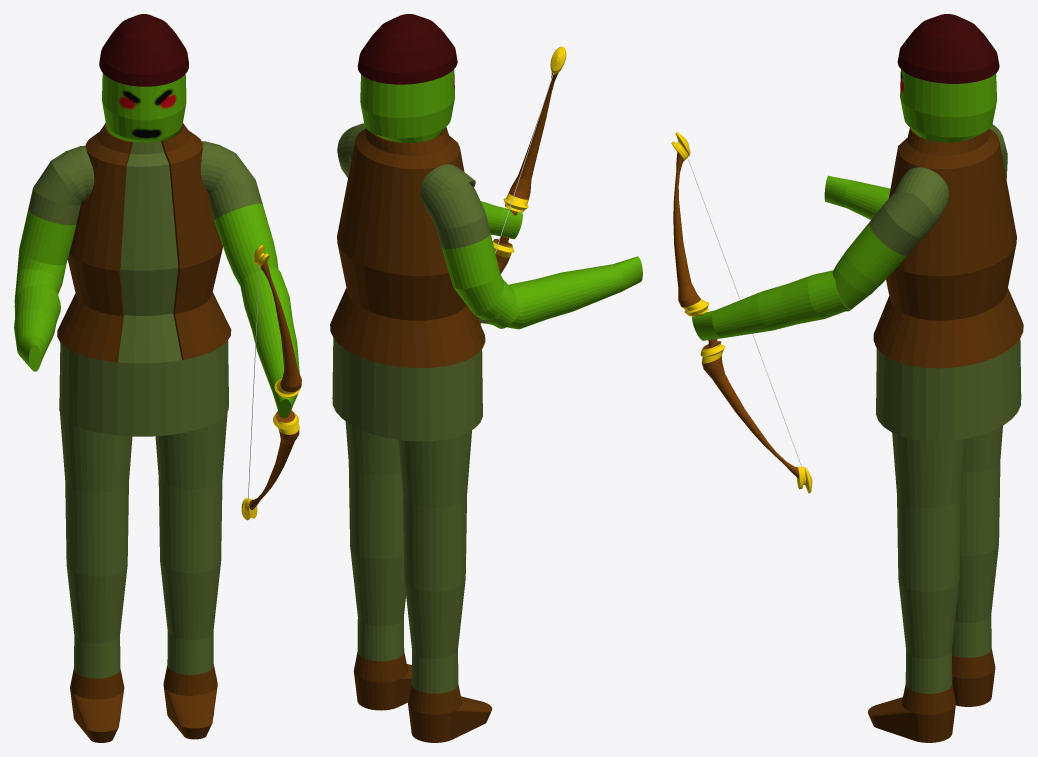
Rendered from ОркЛучник1.fbx.
3 views of the same model, side by side, from view 1: azimuth 30°, elevation 25°; view 2: azimuth 150°, elevation 25°; view 3: azimuth 270°, elevation 25° (orthographic).
Parts seen in each view (by area): view 1: Цилиндр.297, Цилиндр.307, Цилиндр.303, Цилиндр.304, Цилиндр.305, Цилиндр.302, Цилиндр.299, Цилиндр.306, Цилиндр.301, Цилиндр.300, Цилиндр.309, Цилиндр.298 (+2 smaller); view 2: Цилиндр.307, Цилиндр.297, Цилиндр.303, Цилиндр.302, Цилиндр.305, Цилиндр.299, Цилиндр.304, Цилиндр.306, Цилиндр.298, Цилиндр.309, Цилиндр.296, Цилиндр.300; view 3: Цилиндр.307, Цилиндр.297, Цилиндр.304, Цилиндр.305, Цилиндр.301, Цилиндр.302, Цилиндр.300, Цилиндр.306, Цилиндр.303, Цилиндр.309, Цилиндр.298, Цилиндр.295.
Boxes of the visible parts, box(x1,y1,x2,y2) form: Цилиндр.297: box(59, 73, 228, 436); Цилиндр.307: box(57, 123, 231, 362); Цилиндр.303: box(60, 412, 132, 576); Цилиндр.304: box(155, 412, 227, 572); Цилиндр.305: box(160, 561, 220, 739); Цилиндр.302: box(66, 565, 127, 742); Цилиндр.299: box(14, 160, 83, 303); Цилиндр.306: box(99, 14, 188, 86); Цилиндр.301: box(209, 153, 278, 285); Цилиндр.300: box(240, 267, 299, 418); Цилиндр.309: box(241, 245, 301, 520); Цилиндр.298: box(14, 284, 60, 371); Цилиндр.307: box(330, 127, 485, 368); Цилиндр.297: box(332, 69, 482, 441); Цилиндр.303: box(398, 430, 471, 591); Цилиндр.302: box(404, 580, 492, 742); Цилиндр.305: box(350, 548, 411, 710); Цилиндр.299: box(420, 183, 519, 328); Цилиндр.304: box(345, 421, 403, 559); Цилиндр.306: box(357, 14, 457, 84); Цилиндр.298: box(478, 256, 642, 329); Цилиндр.309: box(477, 46, 566, 323); Цилиндр.296: box(420, 164, 475, 194); Цилиндр.300: box(480, 201, 522, 239); Цилиндр.307: box(873, 128, 1023, 368); Цилиндр.297: box(876, 69, 1021, 441); Цилиндр.304: box(892, 432, 965, 591); Цилиндр.305: box(868, 580, 959, 742); Цилиндр.301: box(832, 192, 945, 311); Цилиндр.302: box(952, 544, 998, 706); Цилиндр.300: box(692, 270, 852, 340); Цилиндр.306: box(897, 14, 999, 83); Цилиндр.303: box(960, 426, 1002, 555); Цилиндр.309: box(671, 132, 812, 493); Цилиндр.298: box(824, 175, 890, 219); Цилиндр.295: box(894, 167, 948, 218).
Size of the model in its own units: 44.9 by 114 by 52.16.
